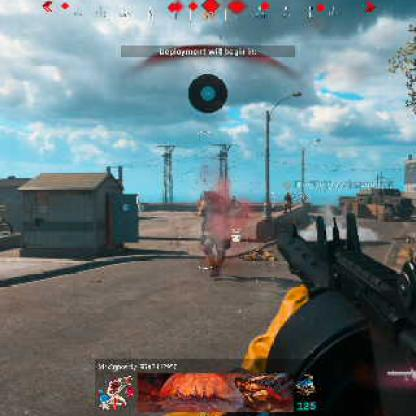enemy: (196, 190, 232, 275), (284, 191, 292, 213)
